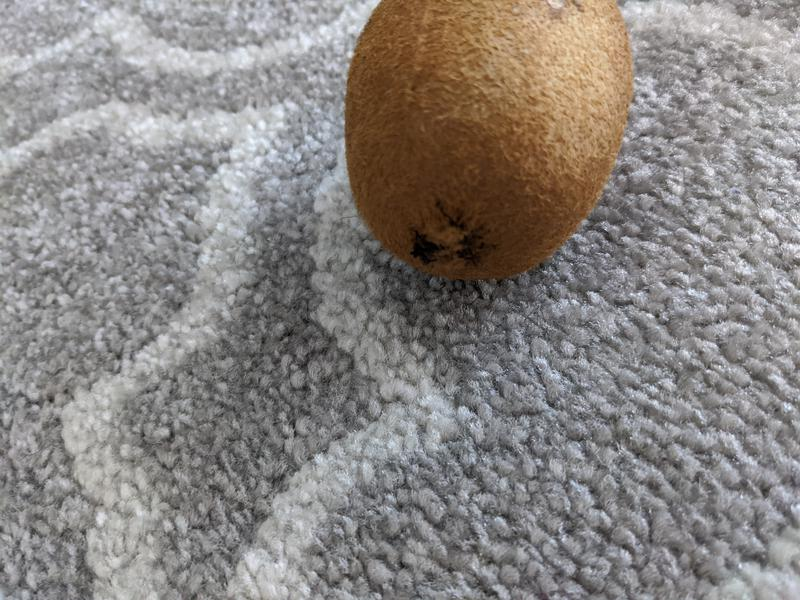kiwi: (342, 1, 636, 282)
